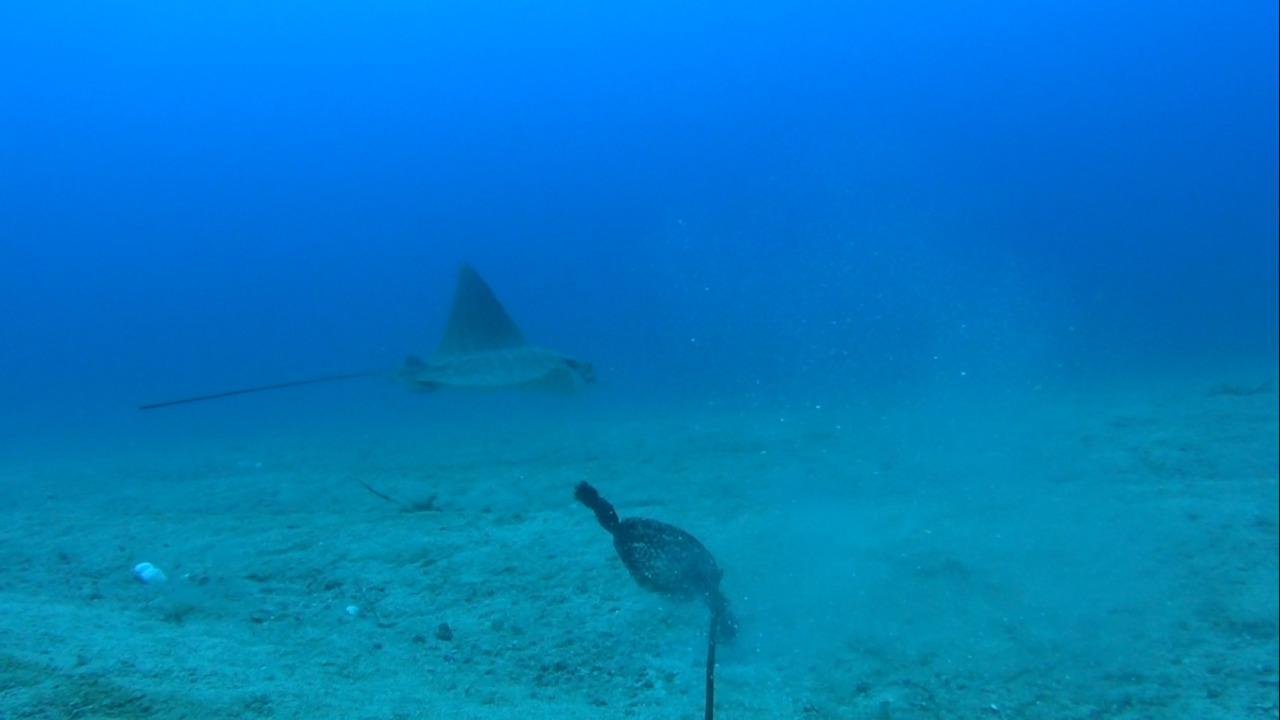myliobatis: (133, 255, 614, 428)
